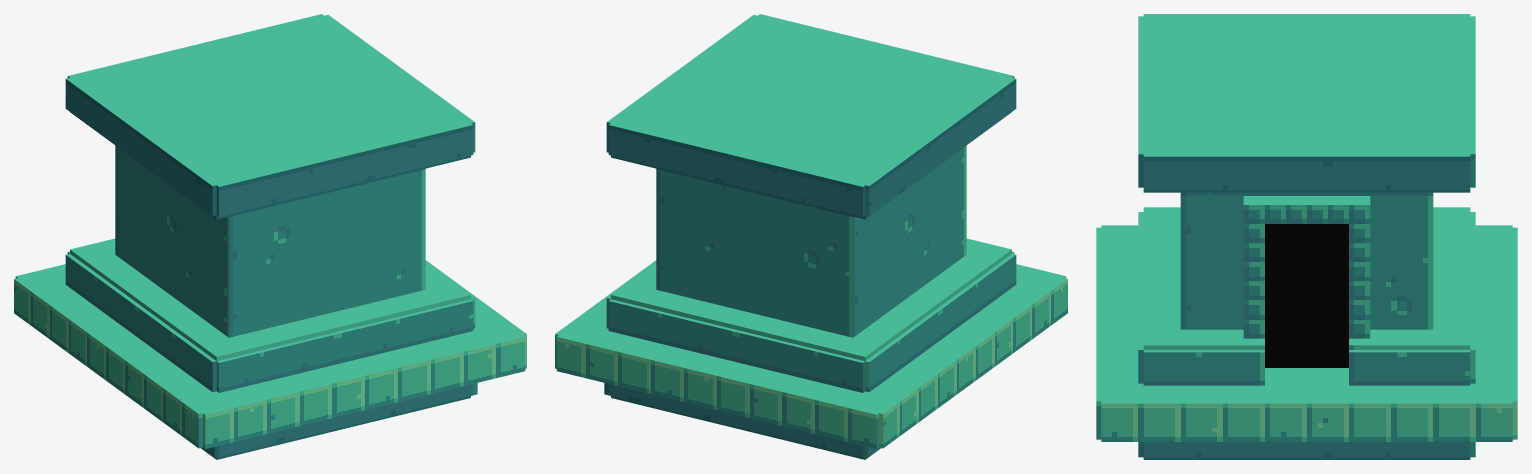
File: skull_jawao.fezao.glb
3 renders of one model, left to right at view 1: azimuth 30°, elevation 25°; view 2: azimuth 150°, elevation 25°; view 3: azimuth 270°, elevation 25°, orthographic. The views are drawn at different scales.
Parts seen in each view (by area): view 1: SKULL_JAWAO; view 2: SKULL_JAWAO; view 3: SKULL_JAWAO.
Boxes of the visible parts, box(x1,y1,x2,y2) form: SKULL_JAWAO: box(14, 14, 526, 459); SKULL_JAWAO: box(555, 14, 1067, 459); SKULL_JAWAO: box(1096, 14, 1517, 459).
Size of the model in its own units: 5 by 4 by 5.
1 material, 1 textured.
